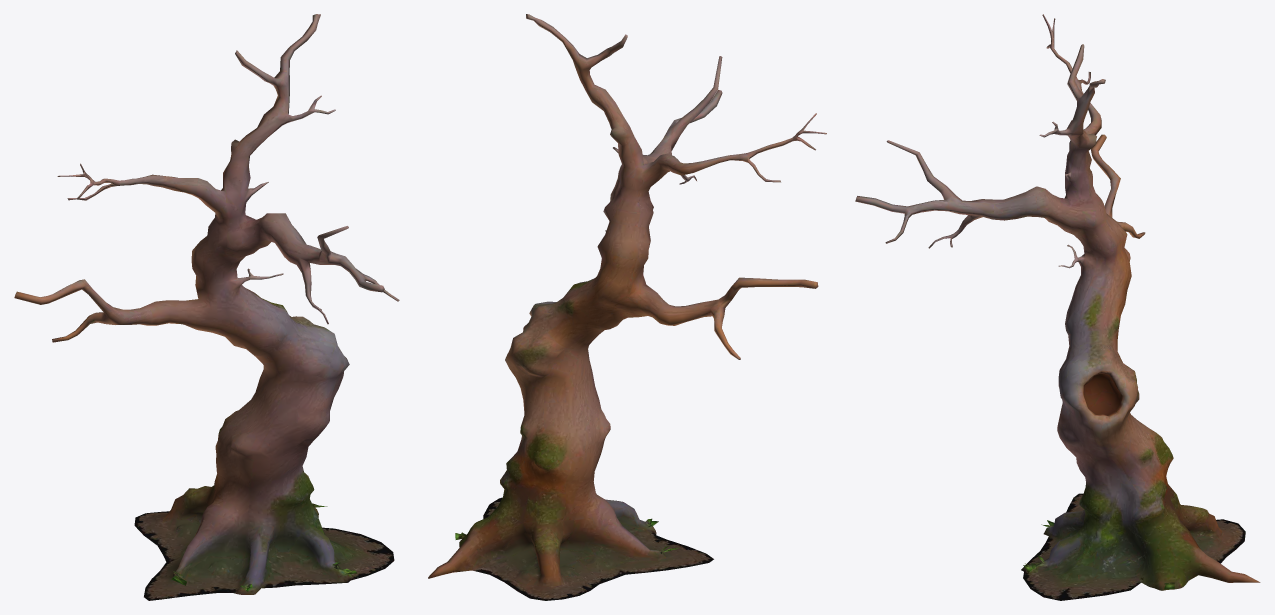
The model's file is dead_2.glb.
3 views of the same model, side by side, from view 1: azimuth 30°, elevation 25°; view 2: azimuth 150°, elevation 25°; view 3: azimuth 270°, elevation 25° (orthographic). The views are drawn at different scales.
Parts seen in each view (by area): view 1: tripo_node_0a7c707c-8a23-44ab-998c-67b19aa9cc48; view 2: tripo_node_0a7c707c-8a23-44ab-998c-67b19aa9cc48; view 3: tripo_node_0a7c707c-8a23-44ab-998c-67b19aa9cc48.
Boxes of the visible parts, box(x1,y1,x2,y2) form: tripo_node_0a7c707c-8a23-44ab-998c-67b19aa9cc48: box(14, 14, 399, 600); tripo_node_0a7c707c-8a23-44ab-998c-67b19aa9cc48: box(428, 14, 826, 600); tripo_node_0a7c707c-8a23-44ab-998c-67b19aa9cc48: box(855, 14, 1260, 600).
Bounding box in the file's own units: 7.99 × 11.5 × 8.48.
Materials: 1 (1 with a texture image).
